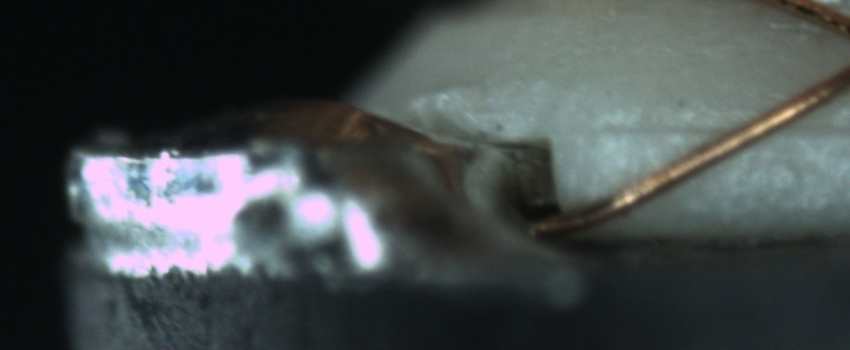DL: (605, 93, 846, 163)
